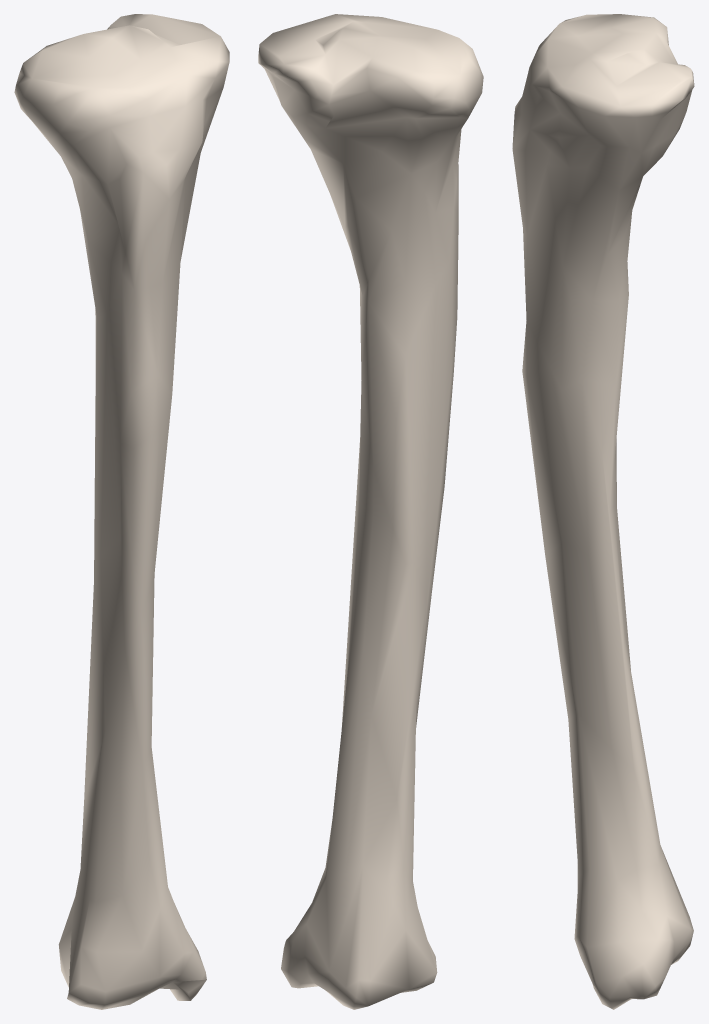
The model's file is right_tibia.glb.
3 renders of one model, left to right at view 1: azimuth 30°, elevation 25°; view 2: azimuth 150°, elevation 25°; view 3: azimuth 270°, elevation 25°, orthographic. The views are drawn at different scales.
Parts seen in each view (by area): view 1: Tibia.r; view 2: Tibia.r; view 3: Tibia.r.
Part boxes in pixels (<box>): Tibia.r: <box>14,14,229,1009</box>; Tibia.r: <box>258,14,483,1009</box>; Tibia.r: <box>512,14,694,1009</box>.
Size of the model in its own units: 0.0766 by 0.3591 by 0.0628.
